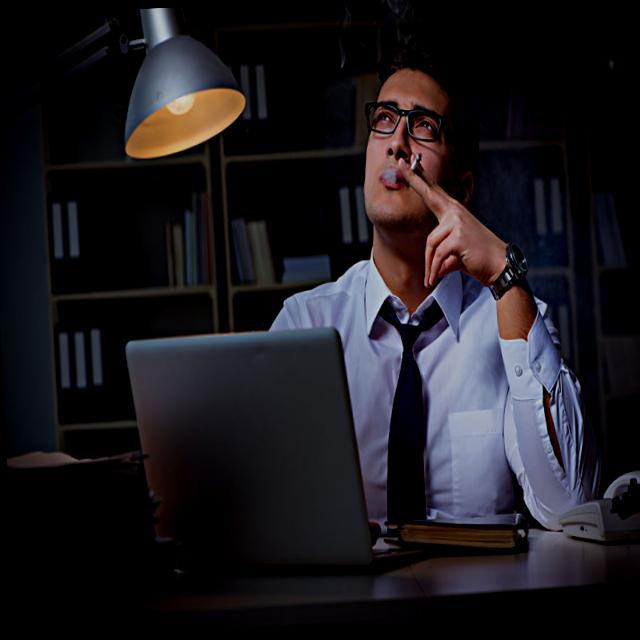cigarette: (410, 149, 424, 171)
